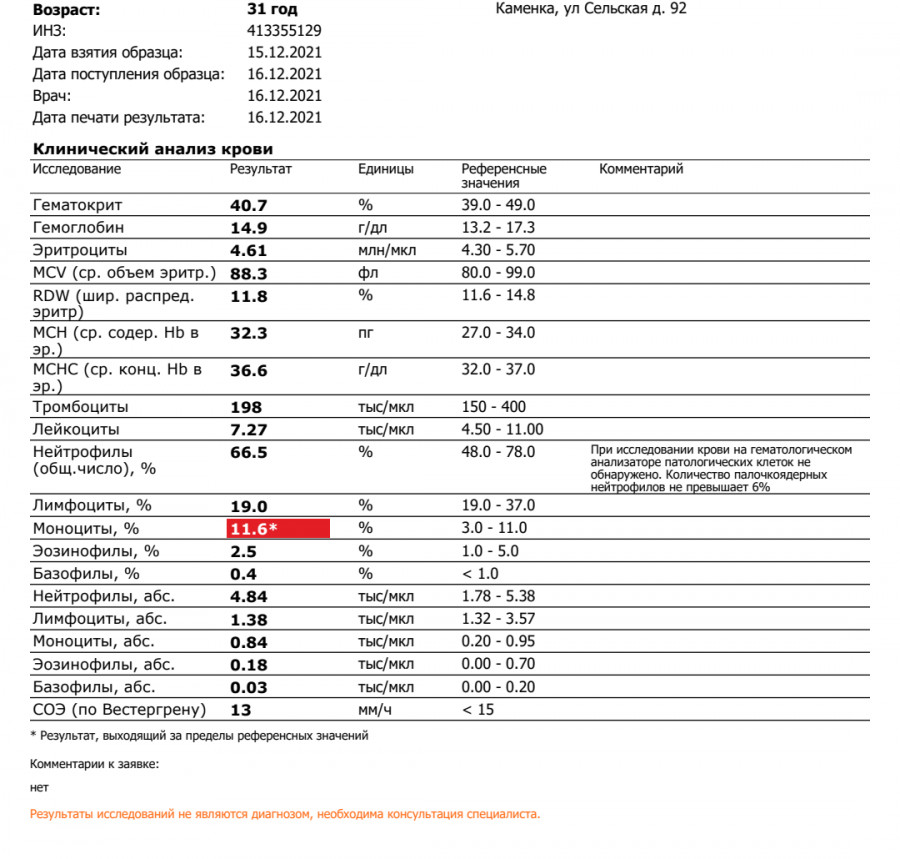column: (590, 159, 852, 720), (32, 159, 216, 720), (461, 159, 547, 720), (229, 159, 293, 720), (358, 159, 416, 720)
